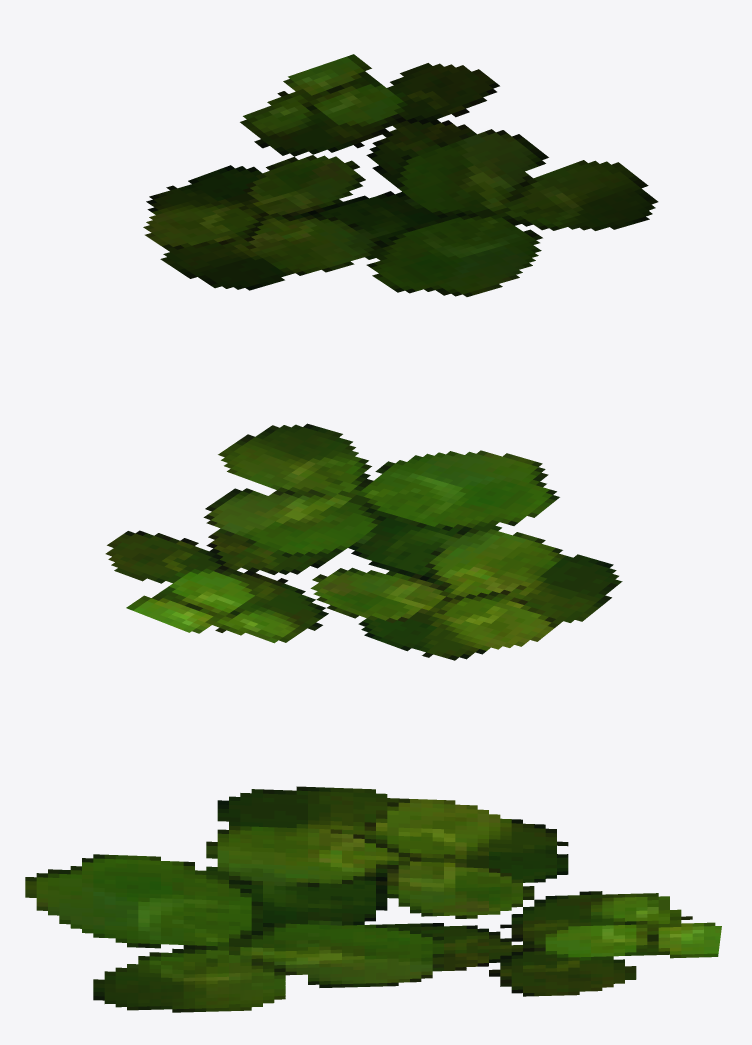
3 renders of one model, top to bottom at view 1: azimuth 30°, elevation 25°; view 2: azimuth 150°, elevation 25°; view 3: azimuth 270°, elevation 25°, orthographic. The views are drawn at different scales.
Parts seen in each view (by area): view 1: Joint_0_Object_0; view 2: Joint_0_Object_0; view 3: Joint_0_Object_0.
Boxes of the visible parts, bbox=[...] form: Joint_0_Object_0: bbox=[143, 54, 658, 296]; Joint_0_Object_0: bbox=[105, 423, 622, 660]; Joint_0_Object_0: bbox=[25, 786, 721, 1012].
Bounding box in the file's own units: 408 × 45.97 × 423.
1 material, 1 textured.
